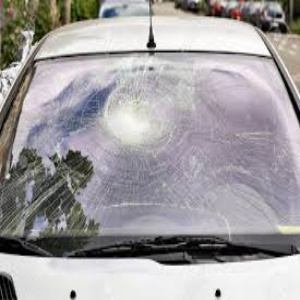rear_windshield_glass: (25, 66, 289, 225)
